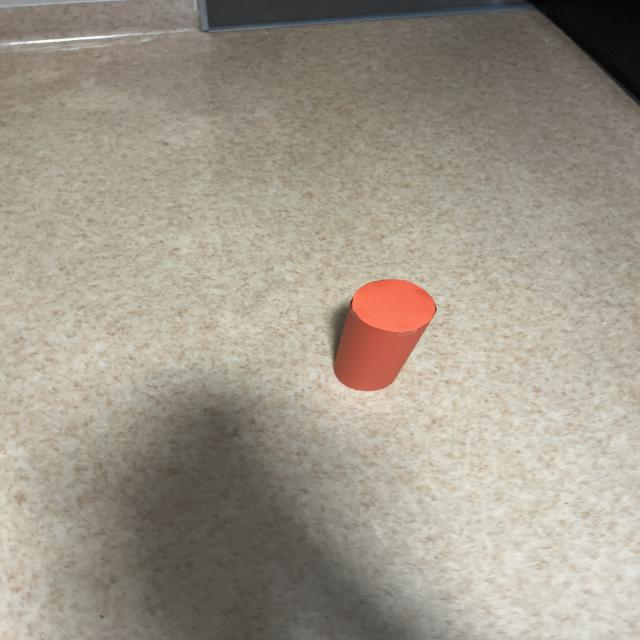przeszkoda: (334, 279, 436, 391)
